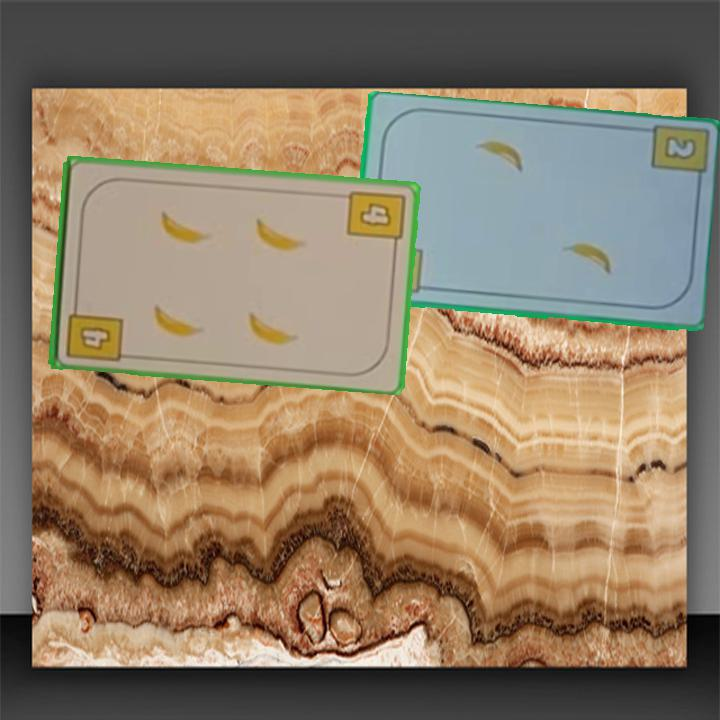2b: (660, 132, 700, 163)
4b: (62, 296, 125, 365), (343, 186, 407, 253)
